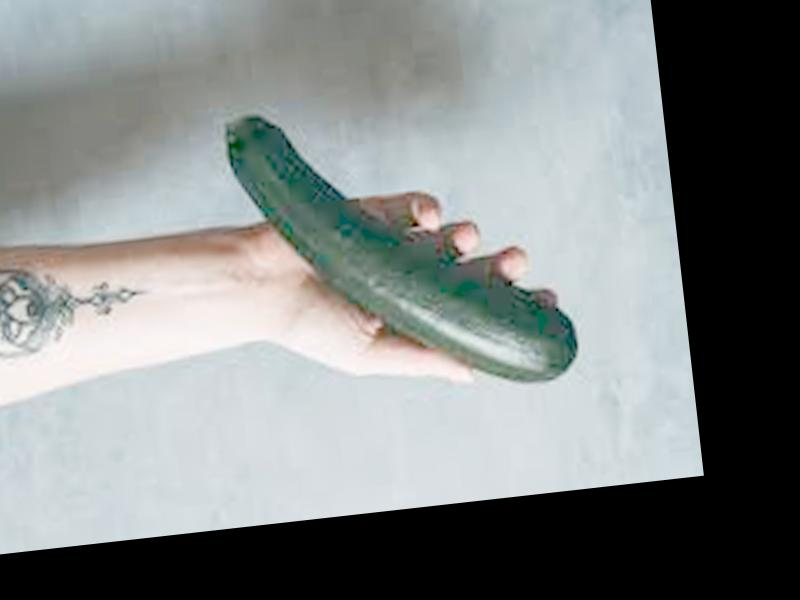Cucumber: (225, 83, 582, 412)
